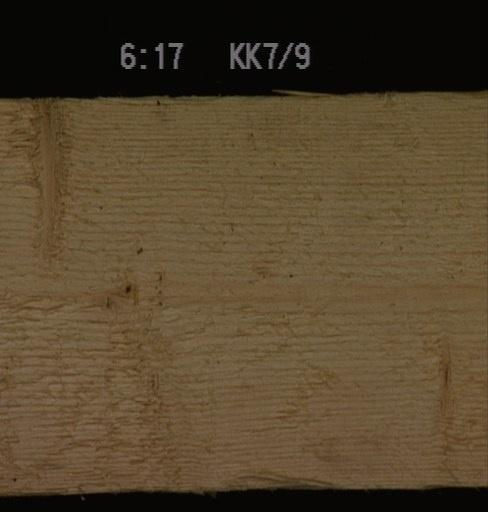small_knot: (119, 278, 139, 296), (101, 293, 114, 311)
wave: (230, 463, 344, 488)
